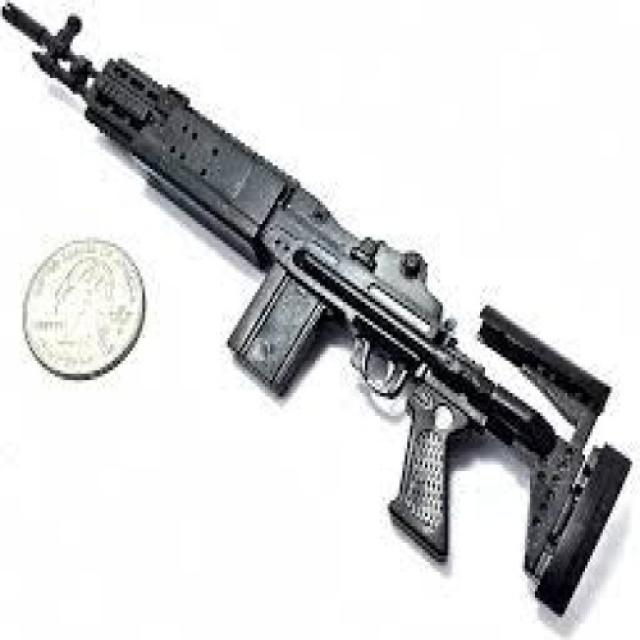Gun: (0, 13, 640, 603)
